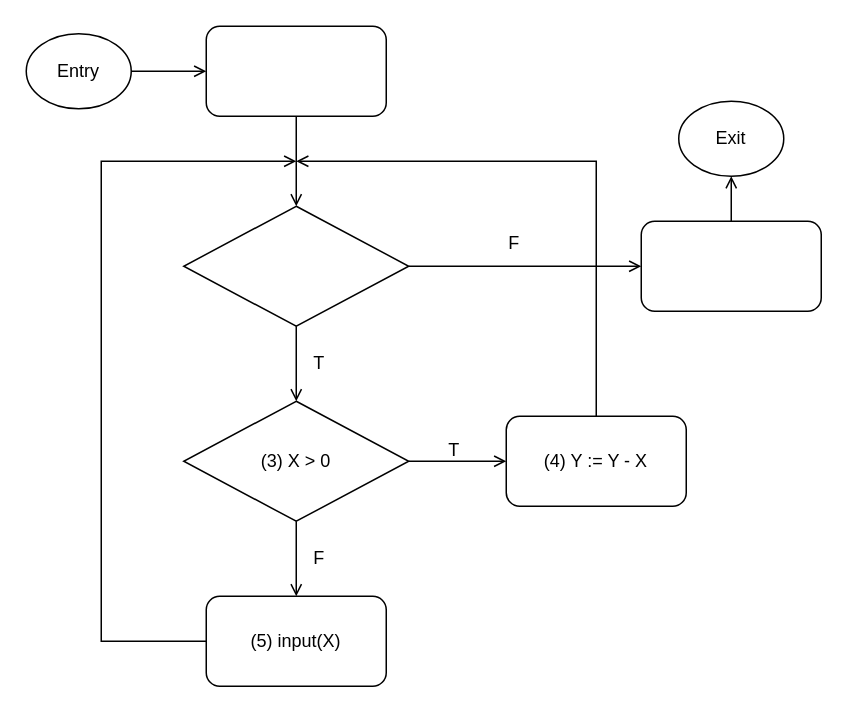
Some shapes in this 848 by 713 pixel diagram are drawn without their labels. The centre of each missing label's shape, as x and y in pixels:
"(1) input(X, Y)" goes at pixel 295 70.
"(2) Y > 0" goes at pixel 295 265.
"(6) output(X, Y)" goes at pixel 730 265.
